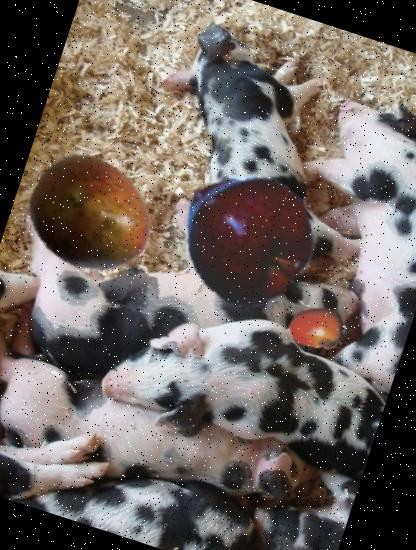Apple: (159, 149, 333, 323)
Kaki: (280, 292, 352, 364)
Mango: (9, 134, 172, 298)
